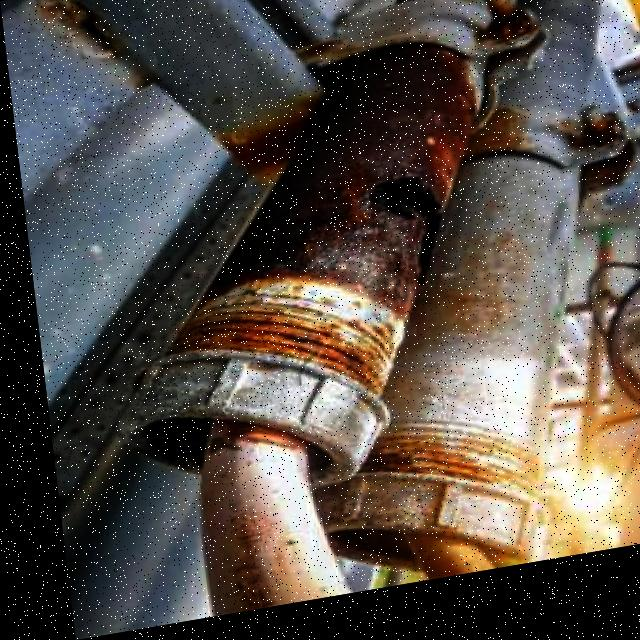hole: (376, 180, 435, 284)
